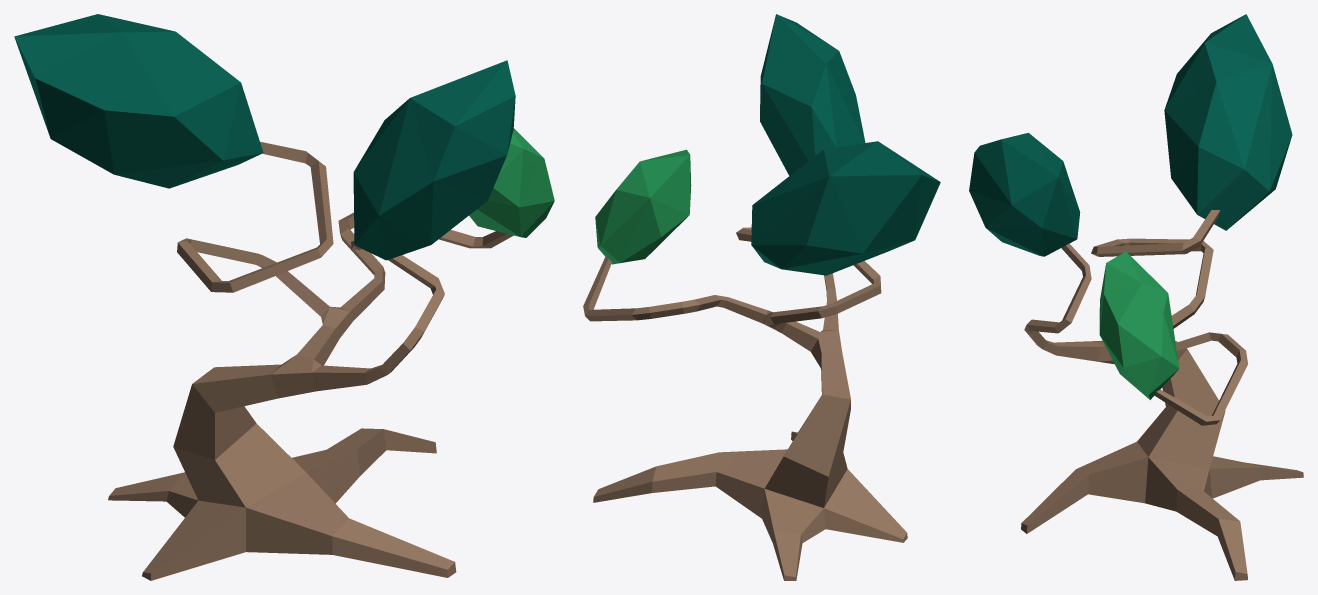
The model's file is LushTree_02_Mesh.fbx.
3 views of the same model, side by side, from view 1: azimuth 30°, elevation 25°; view 2: azimuth 150°, elevation 25°; view 3: azimuth 270°, elevation 25° (orthographic). The views are drawn at different scales.
Parts seen in each view (by area): view 1: LushTree.002_LOD0; view 2: LushTree.002_LOD0; view 3: LushTree.002_LOD0.
Boxes of the visible parts, left/top/right/bottom form: LushTree.002_LOD0: left=14, top=14, right=554, bottom=580; LushTree.002_LOD0: left=583, top=14, right=940, bottom=580; LushTree.002_LOD0: left=969, top=14, right=1303, bottom=580.
Size of what is drawn, in the model's own units: 12402 by 13240 by 9628.
